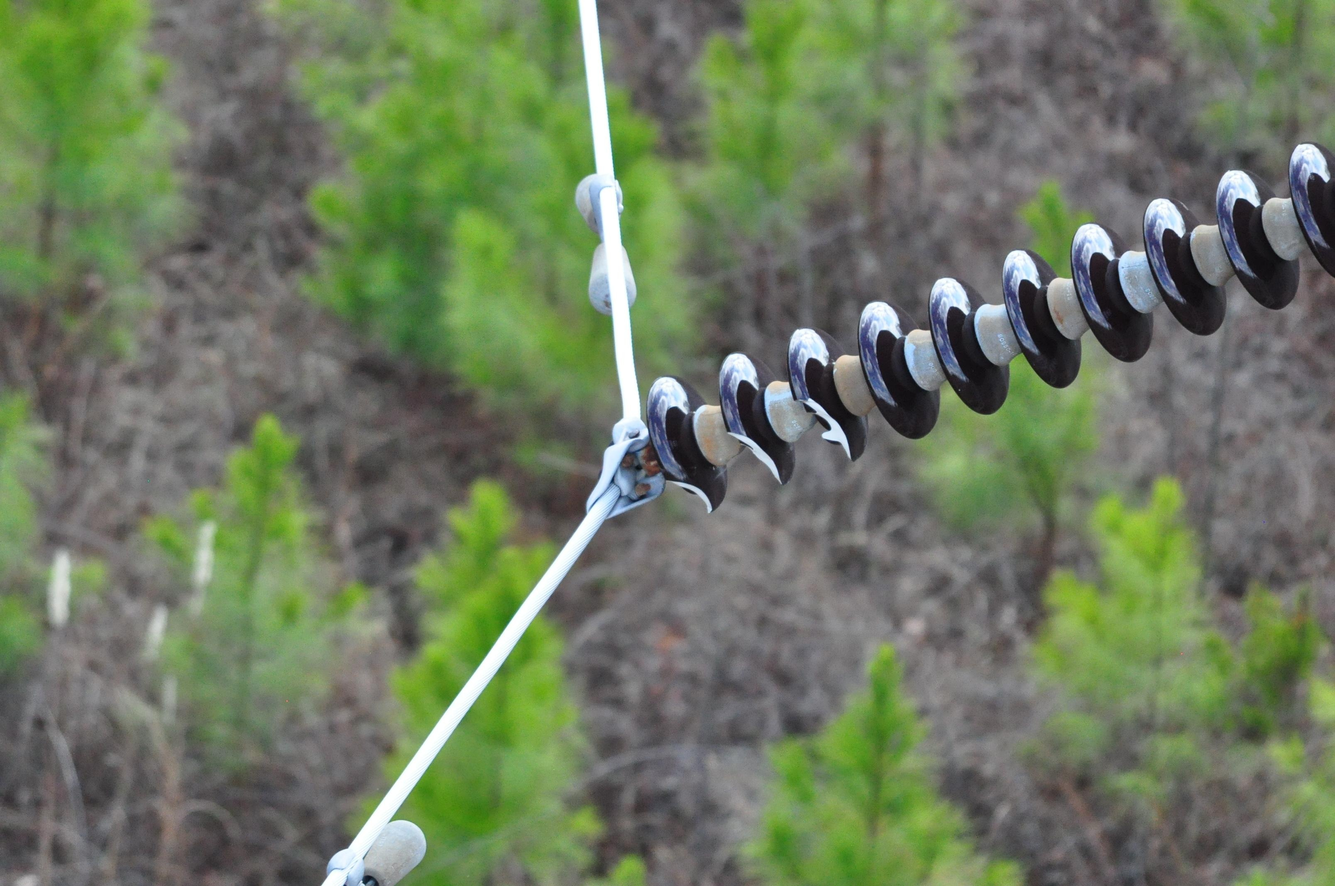damaged: (790, 387, 864, 463), (720, 414, 789, 489), (661, 468, 718, 517)
hammer: (560, 171, 640, 311), (328, 809, 428, 886)
insulator: (648, 144, 1335, 515)
